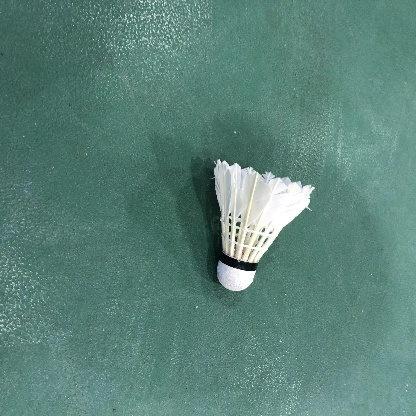ball_single: (214, 159, 316, 291)
